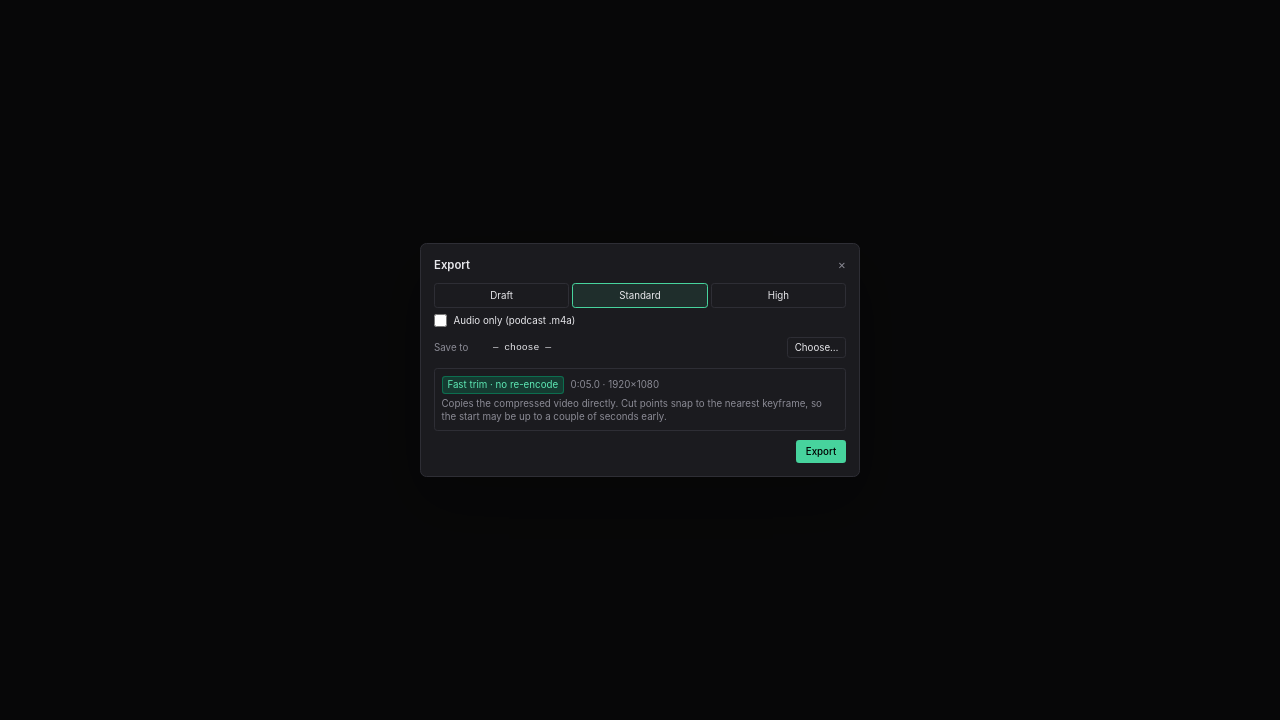
ExportDialog › re-plans when quality changes and shows plan errors
Click the button "High": (778,295) [711,283,846,308]
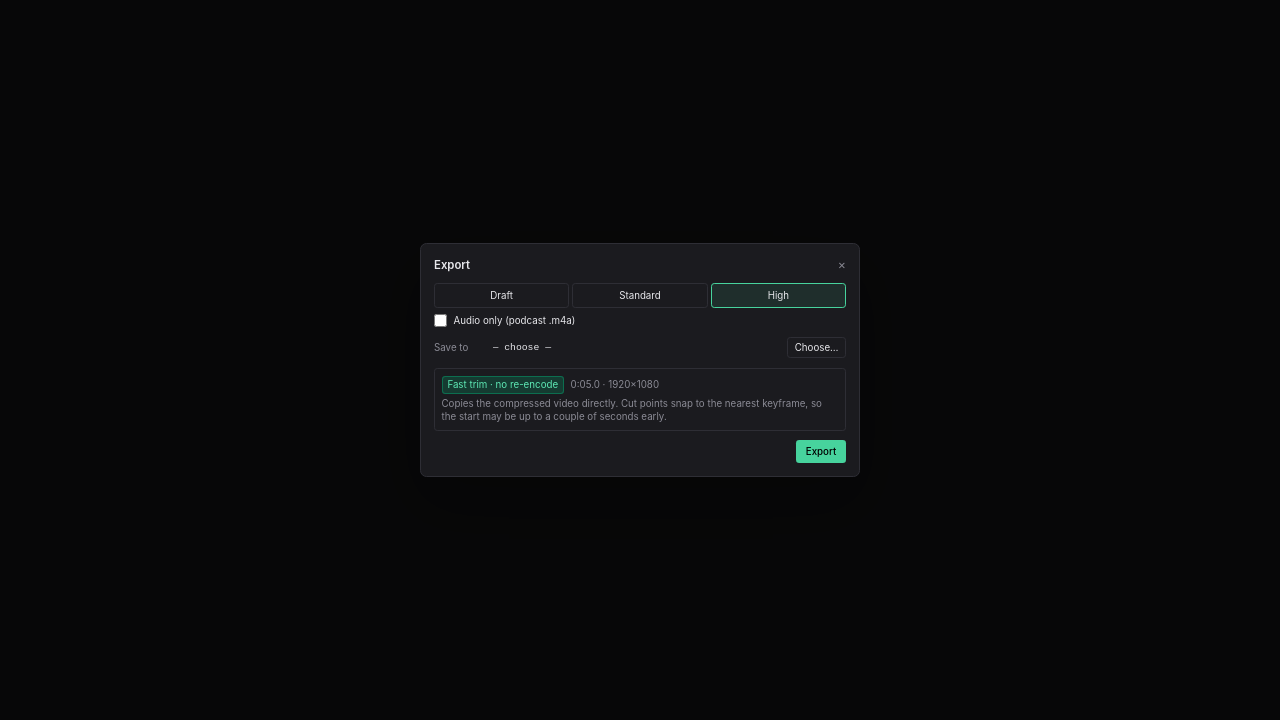
Click the button "Draft": (502,295) [434,283,569,308]
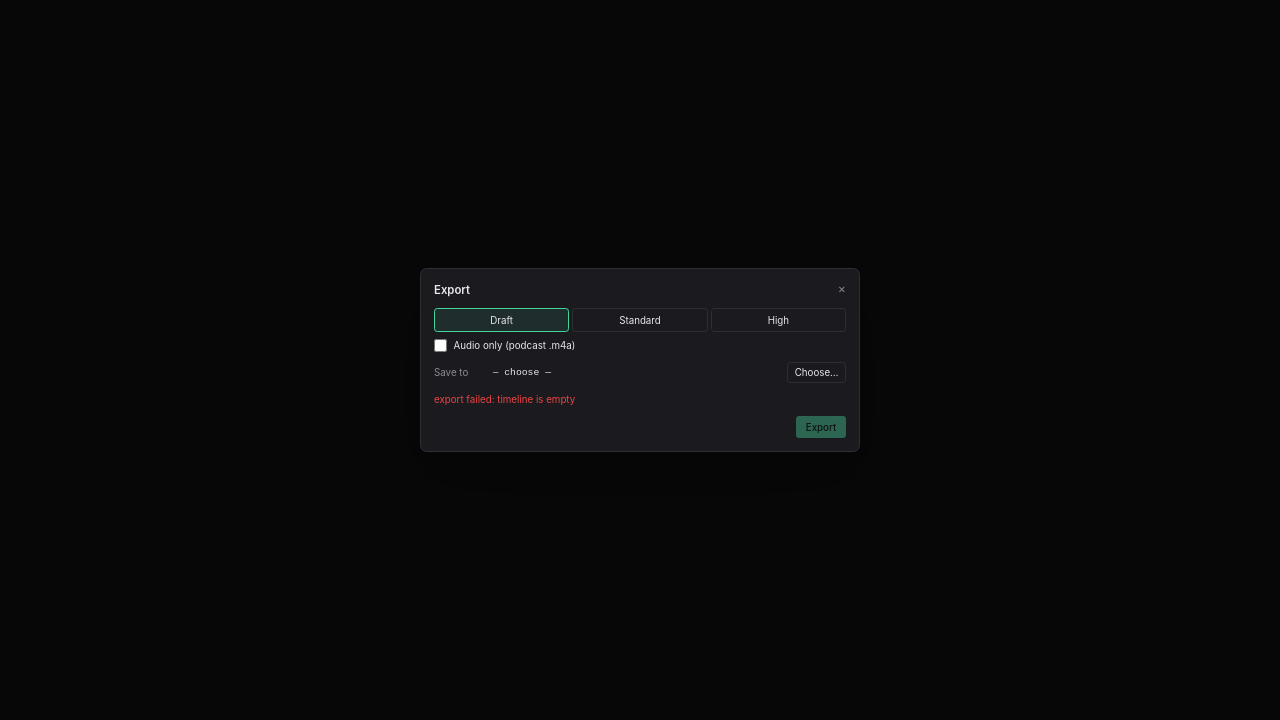
Check: the text "export failed: timeline is empty" is shown, box [434,394,575,405]
Check: the button "Export" is disabled, box [796,416,846,438]
